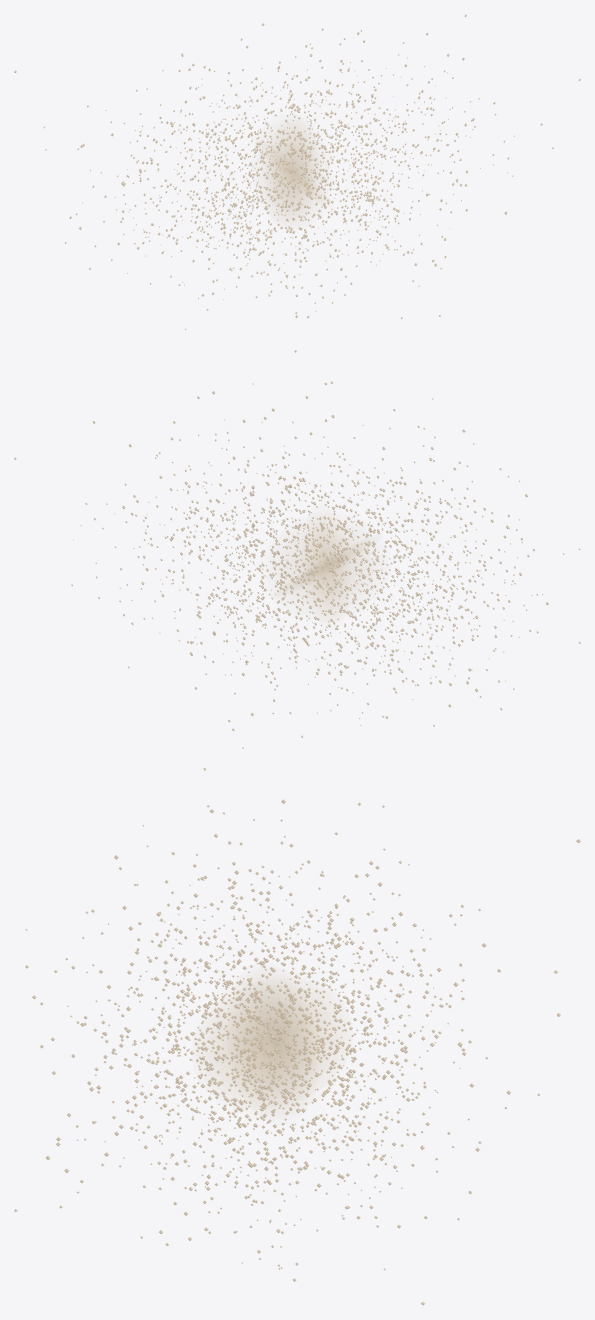
3 views of the same model, one above another, from view 1: azimuth 30°, elevation 25°; view 2: azimuth 150°, elevation 25°; view 3: azimuth 270°, elevation 25° (orthographic). The views are drawn at different scales.
Size of the model in its own units: 8.28 by 4.78 by 5.62.
